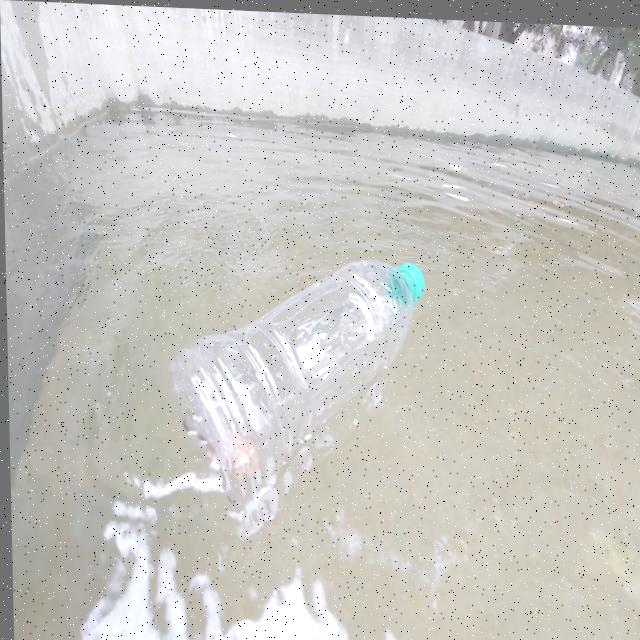waterbottle: (146, 233, 455, 518)
